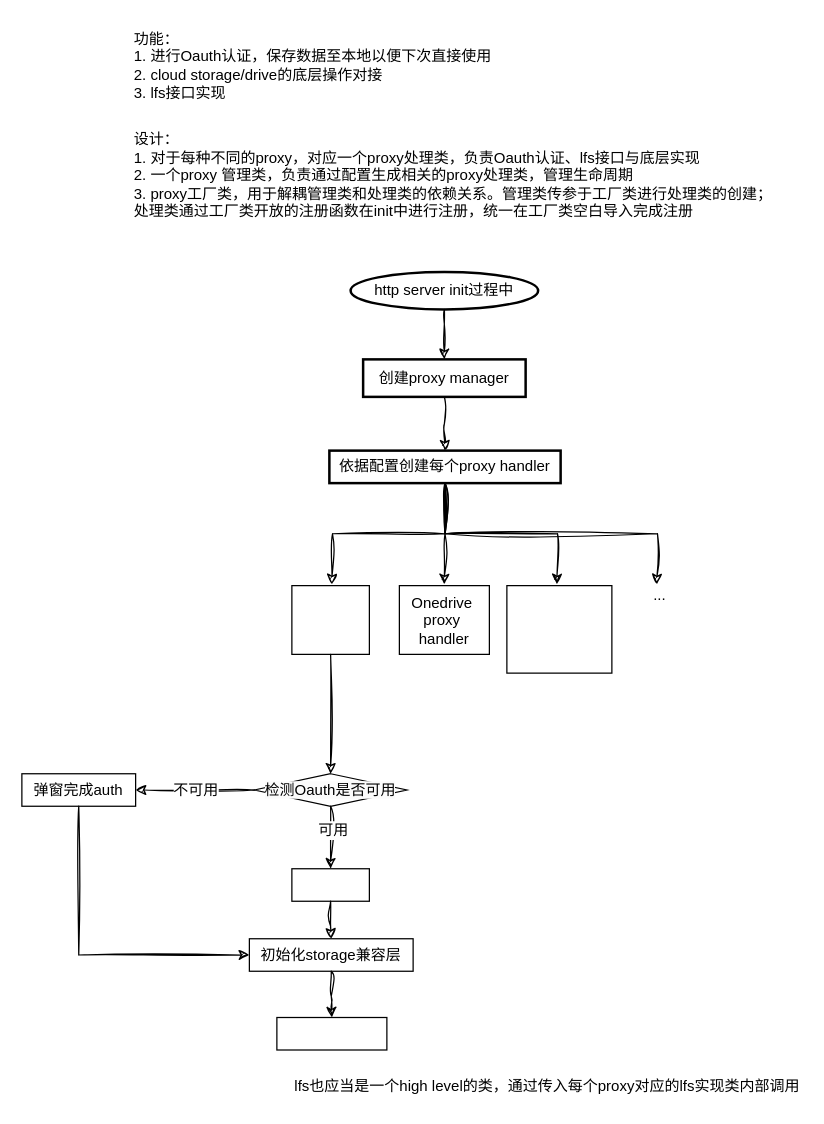
Image size: 824x1124. Some labels were removed from this diagram. The centre of each missing label's shape, as x and y in pixels:
Google proxy handler: point 330,619
S3 Compatible proxy handler: point 559,628
初始化lfs接口: point 331,1033
刷新凭证: point 330,884
